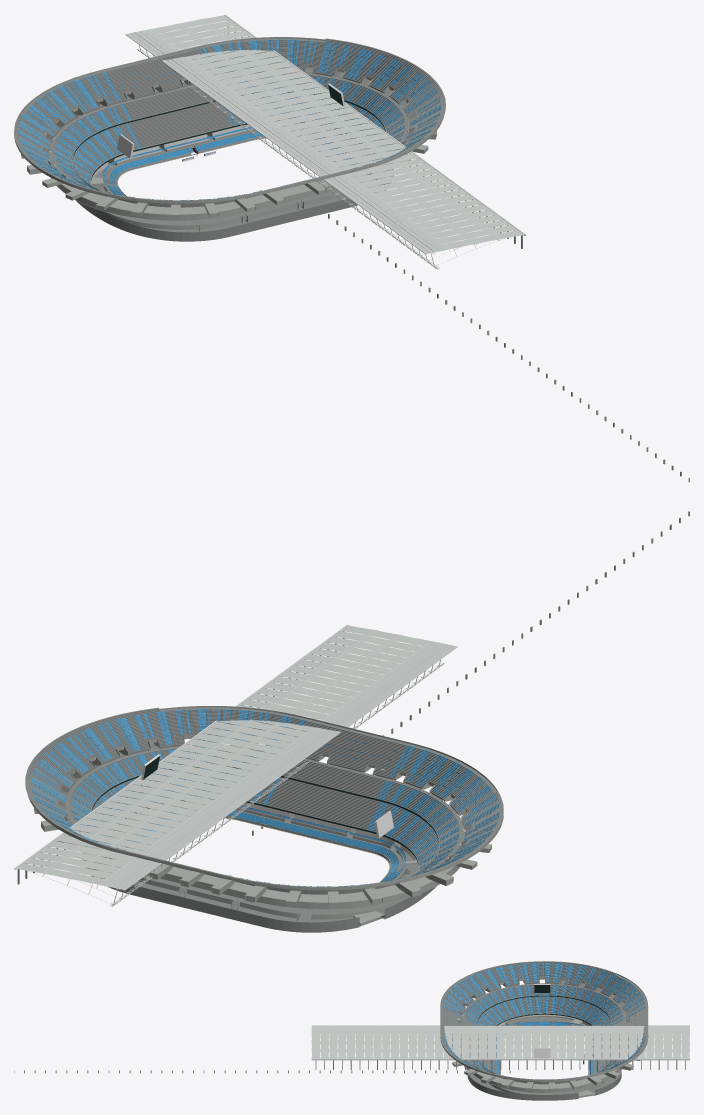
File: stadium.glb
The picture shows the model from 3 angles, top to bottom: view 1: azimuth 30°, elevation 25°; view 2: azimuth 150°, elevation 25°; view 3: azimuth 270°, elevation 25°; orthographic projection. The views are drawn at different scales.
Parts seen in each view (by area): view 1: StadiumRoof, Stadium_Plane.002, Stadium_Plane.052, Stadium_Plane.001, Stadium_Plane.018, Stadium_Plane, Stadium_Plane.015, Stadium_Plane.021, Stadium_Plane.010; view 2: StadiumRoof, Stadium_Plane.002, Stadium_Plane.052, Stadium_Plane.001, Stadium_Plane, Stadium_Plane.018, Stadium_Plane.015, Stadium_Plane.010, Stadium_Plane.006, Stadium_Plane.005, Stadium_Plane.016, Stadium_Plane.012; view 3: StadiumRoof, Stadium_Plane.002, Stadium_Plane.018, Stadium_Plane.052, Stadium_Plane.001, Stadium_Plane, Stadium_Plane.009, Stadium_Plane.023, Stadium_Plane.015, Stadium_Plane.008.
Boxes of the visible parts, x1,y1,x2,y2 form: StadiumRoof: (125, 14, 525, 269); Stadium_Plane.002: (14, 37, 443, 220); Stadium_Plane.052: (18, 39, 440, 218); Stadium_Plane.001: (50, 93, 407, 229); Stadium_Plane.018: (18, 39, 439, 218); Stadium_Plane: (75, 125, 393, 241); Stadium_Plane.015: (103, 125, 354, 195); Stadium_Plane.021: (103, 126, 301, 181); Stadium_Plane.010: (324, 38, 445, 123); StadiumRoof: (14, 624, 457, 906); Stadium_Plane.002: (27, 706, 503, 909); Stadium_Plane.052: (31, 709, 499, 908); Stadium_Plane.001: (91, 768, 459, 919); Stadium_Plane: (81, 806, 436, 932); Stadium_Plane.018: (31, 709, 499, 906); Stadium_Plane.015: (130, 805, 405, 881); Stadium_Plane.010: (25, 707, 159, 802); Stadium_Plane.006: (103, 864, 353, 922); Stadium_Plane.005: (186, 805, 417, 865); Stadium_Plane.016: (317, 826, 405, 871); Stadium_Plane.012: (203, 804, 323, 836); StadiumRoof: (311, 1025, 689, 1069); Stadium_Plane.002: (440, 961, 648, 1092); Stadium_Plane.018: (443, 963, 645, 1090); Stadium_Plane.052: (443, 963, 645, 1091); Stadium_Plane.001: (462, 996, 622, 1094); Stadium_Plane: (467, 1017, 621, 1100); Stadium_Plane.009: (473, 961, 616, 975); Stadium_Plane.023: (534, 984, 550, 1058); Stadium_Plane.015: (491, 1021, 597, 1074); Stadium_Plane.008: (14, 1070, 510, 1073).
Size of the model in its own units: 291 by 50.86 by 697.
30 materials, 2 textured.
